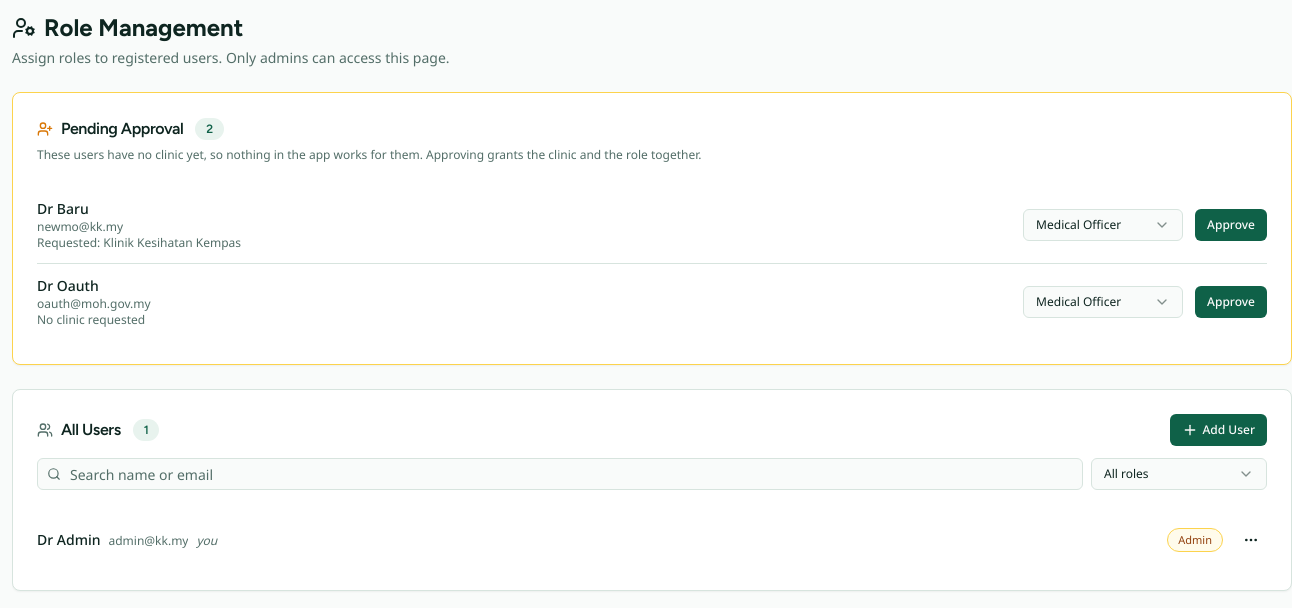
Test: RoleManagement — logistic_pharmacist is super_admin-only › keeps it out of the pending-approval role picker for a plain admin
Check: the text "Dr Baru" is shown, box top-left (37, 199), bottom-right (89, 218)
Click the dropdown with test id "role-pending-1".
click(1103, 225)  # box top-left (1023, 209), bottom-right (1183, 241)
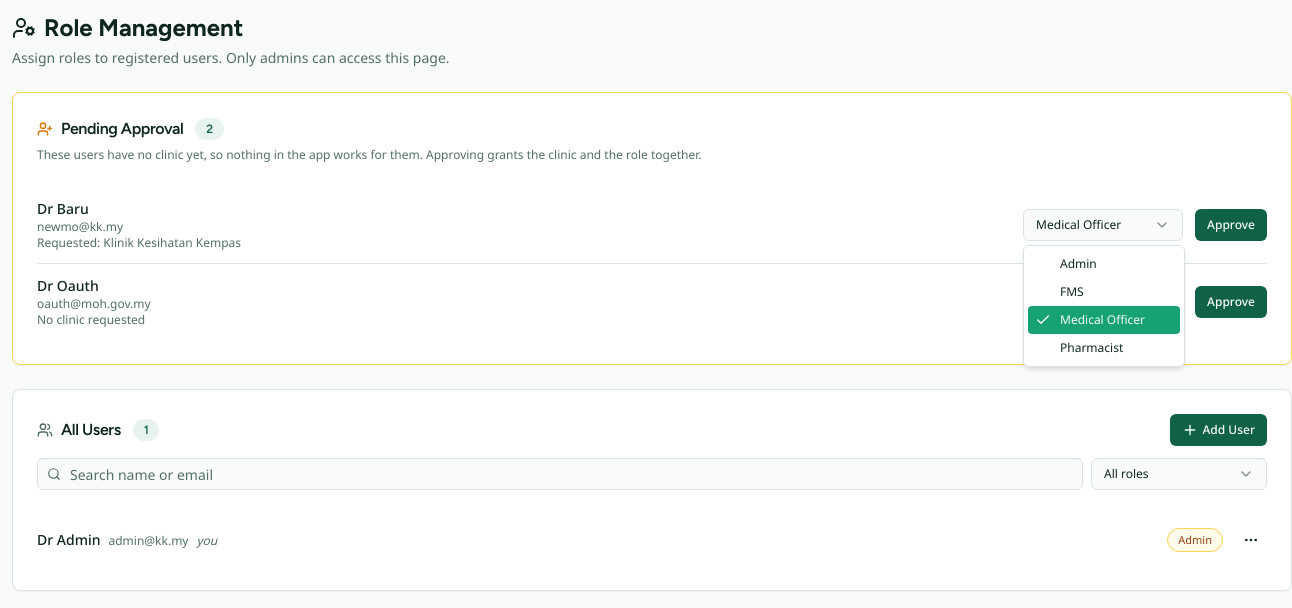
Check: the option "Medical Officer" is shown, box top-left (1028, 306), bottom-right (1180, 334)
